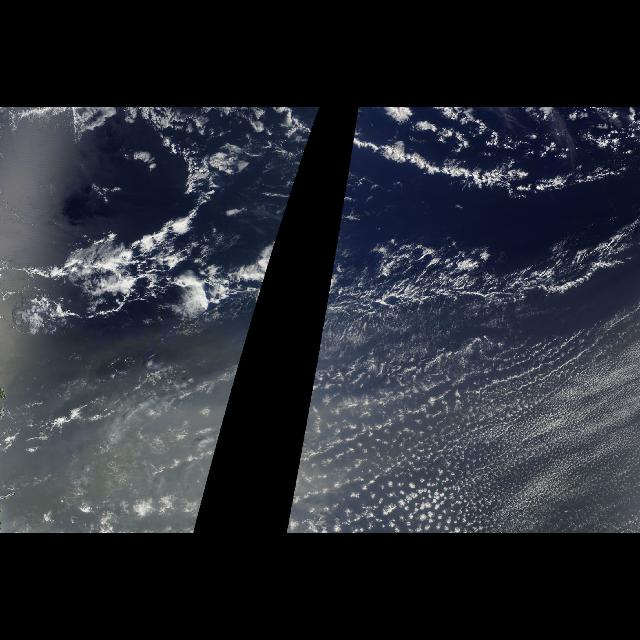Fish: (338, 212, 640, 338), (349, 119, 633, 203)
Gravel: (356, 232, 490, 316)
Sugar: (333, 284, 639, 532)
